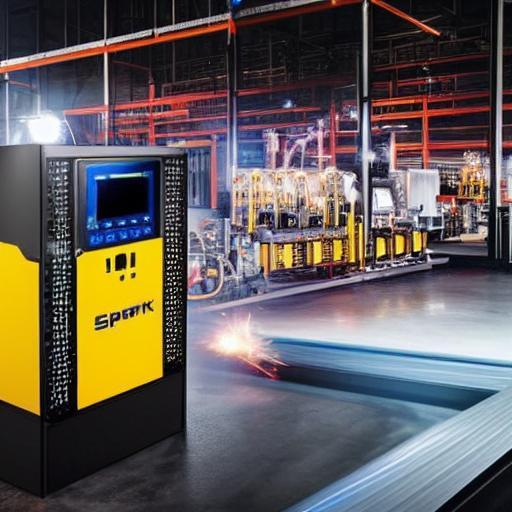fire: (187, 297, 330, 395)
